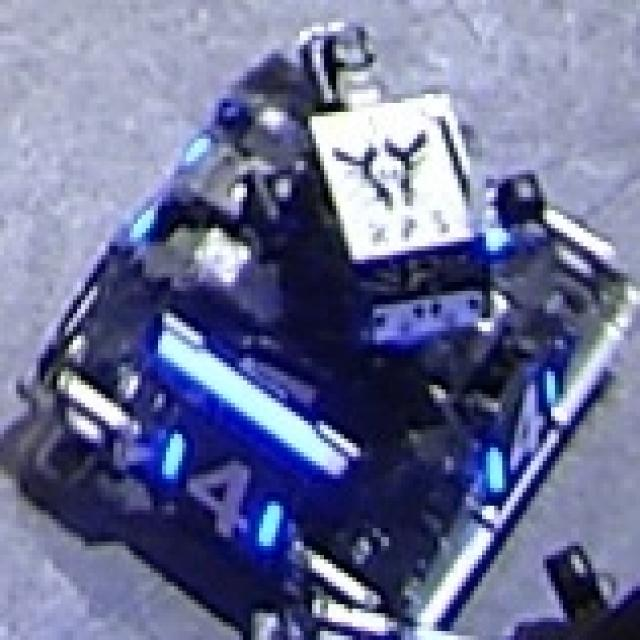B4: (154, 425, 283, 546), (482, 362, 555, 492)
